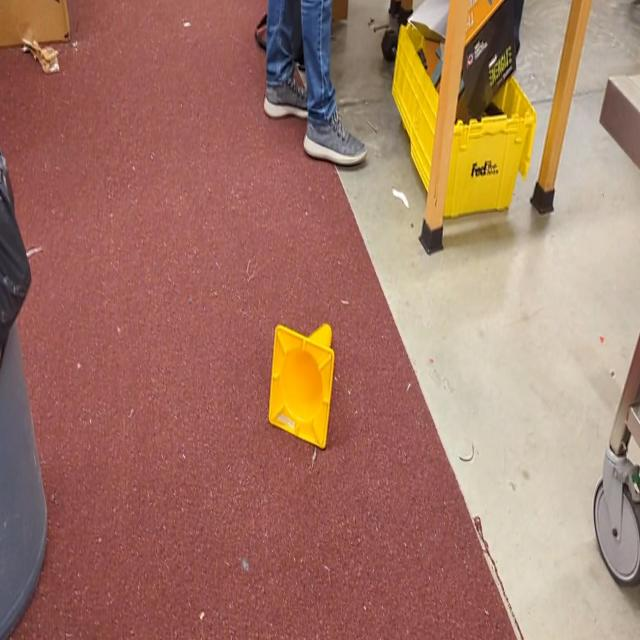frc_cone: (268, 322, 334, 451)
